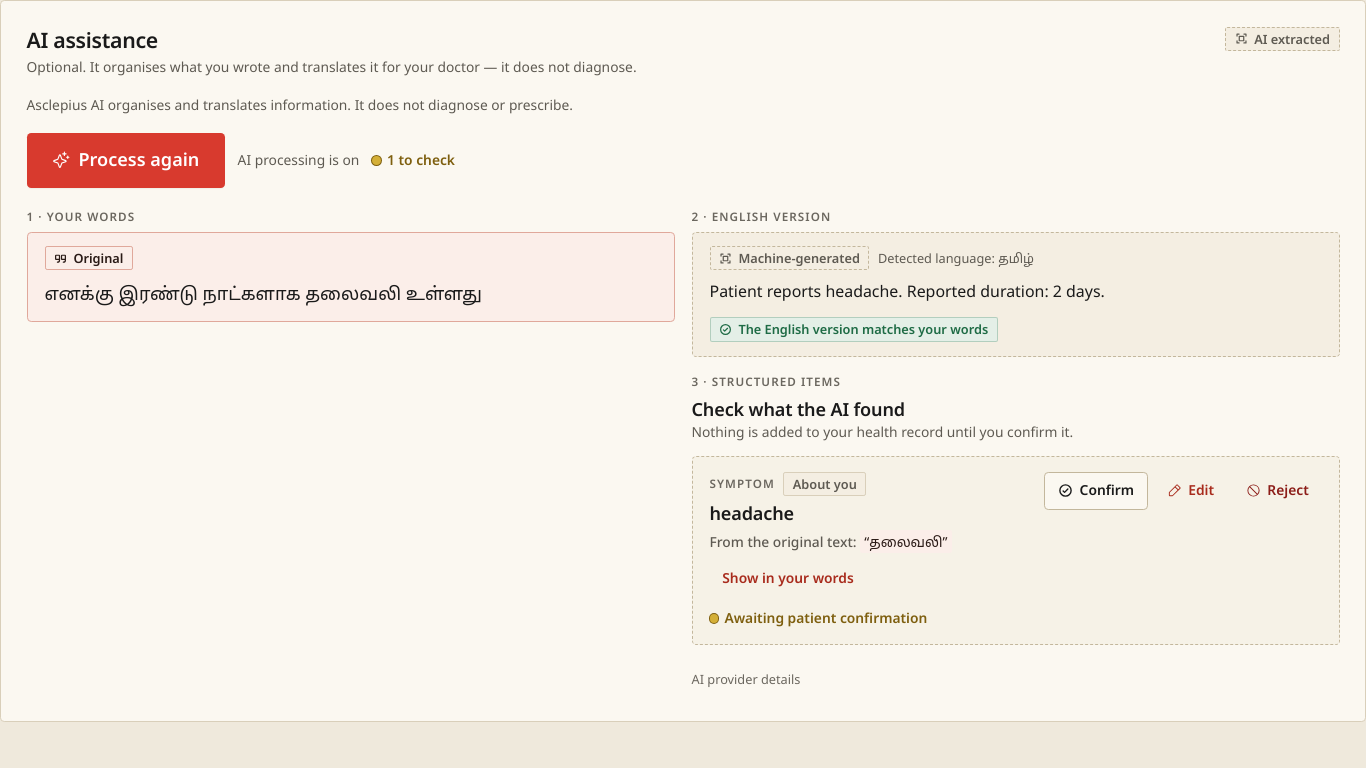
AIAssistPanel › lets the patient correct a value
Click the button "Edit" at (1190, 491), box [1154, 472, 1227, 510]
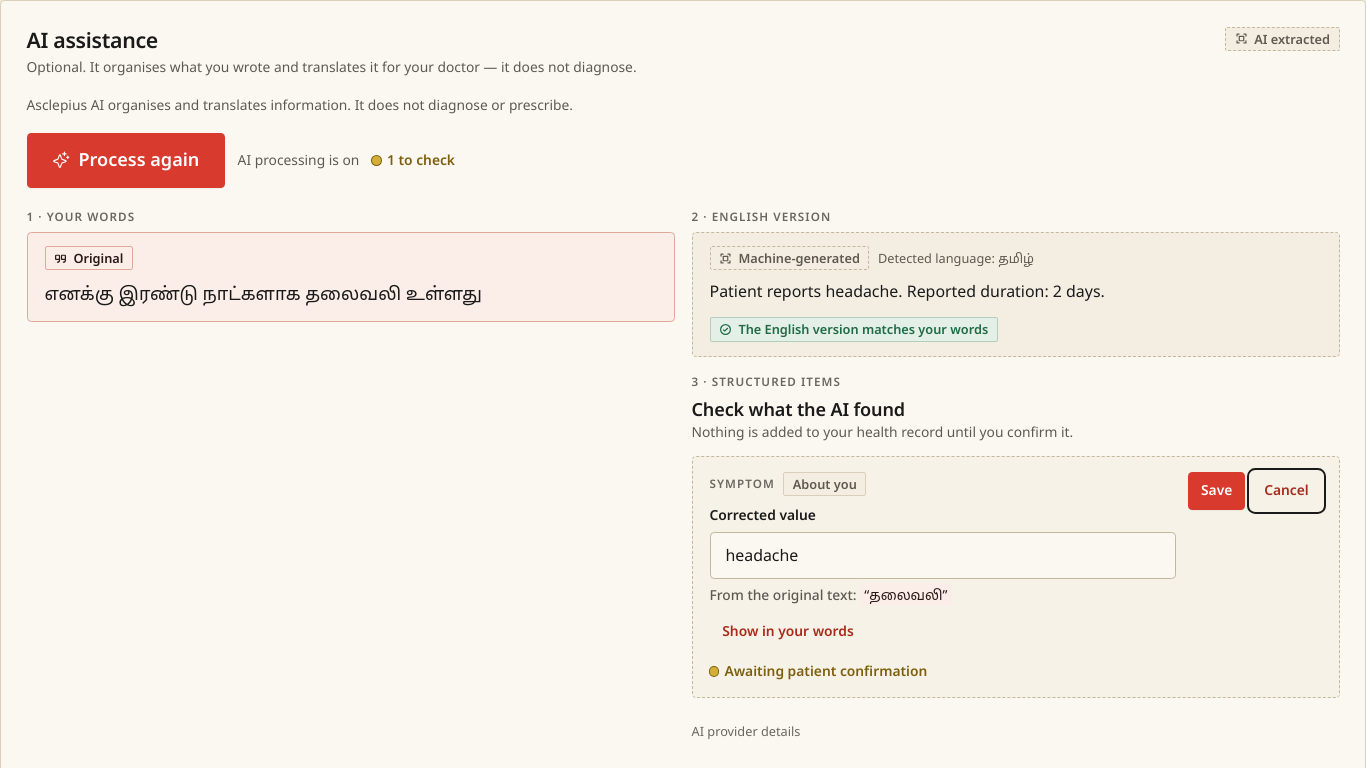
Replace the text in the field labelled "Corrected value" with "severe headache" at (942, 555), box [710, 532, 1176, 579]
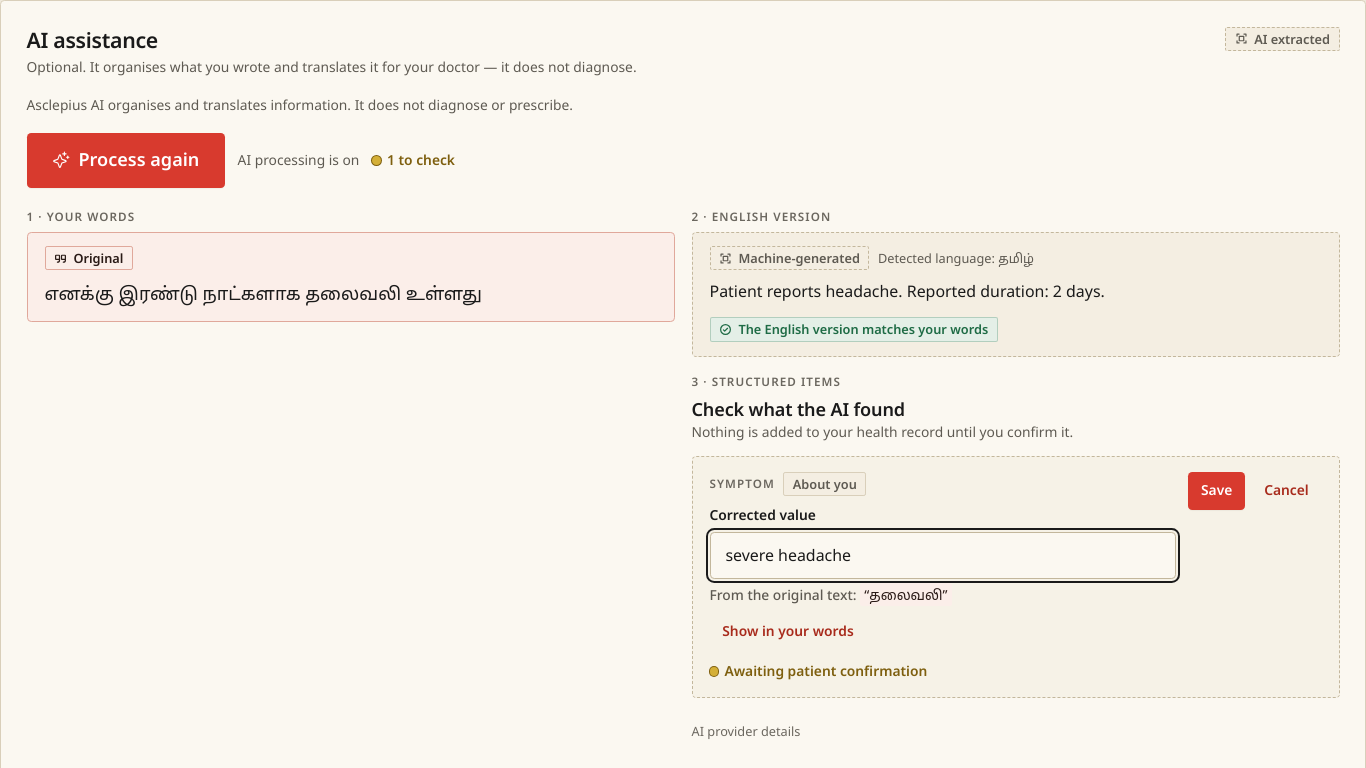
Click the button "Save" at (1217, 491), box [1188, 472, 1245, 510]
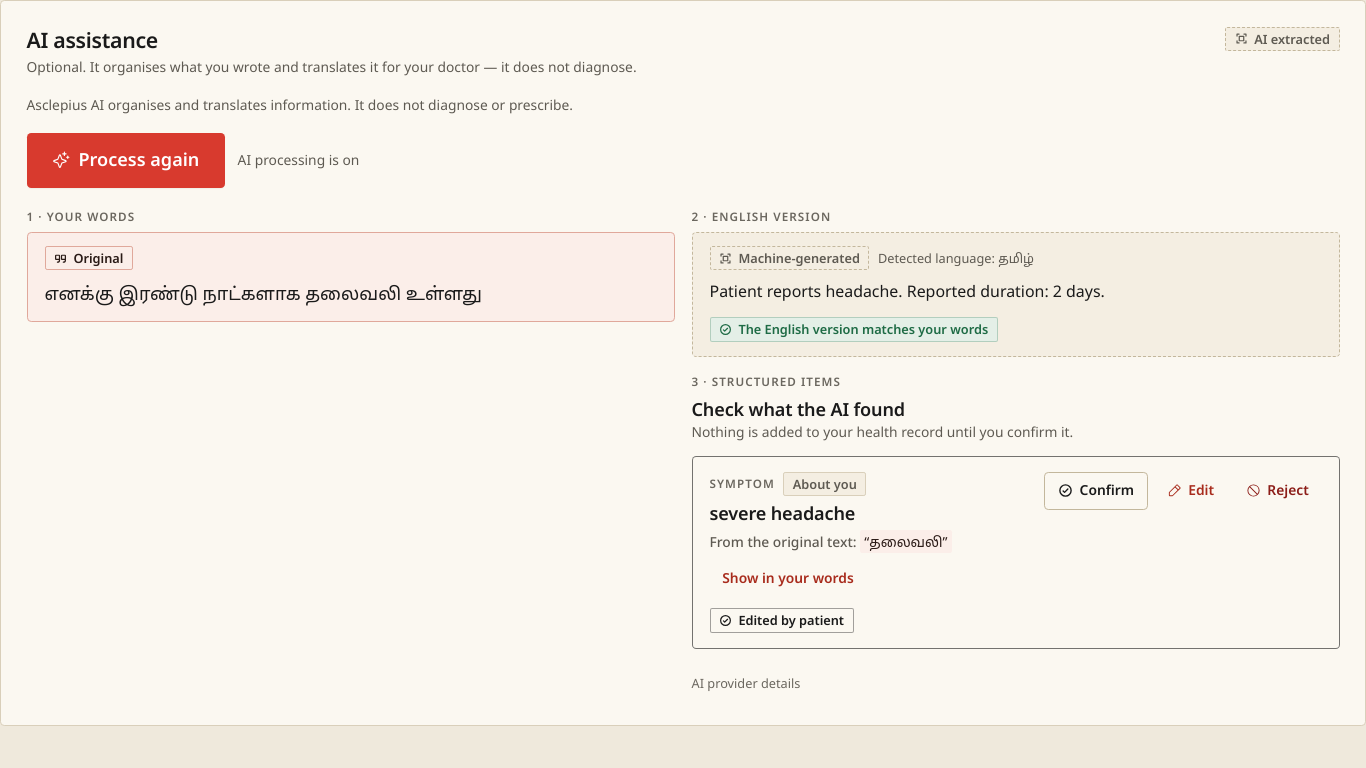
expect the text "severe headache" is shown: met, box [710, 501, 855, 525]
